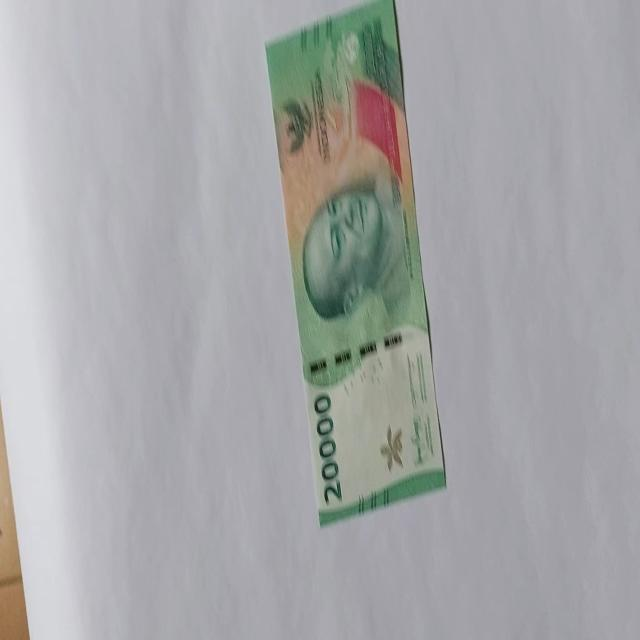dua puluh ribu rupiah: (264, 2, 448, 526), (278, 71, 420, 386)
